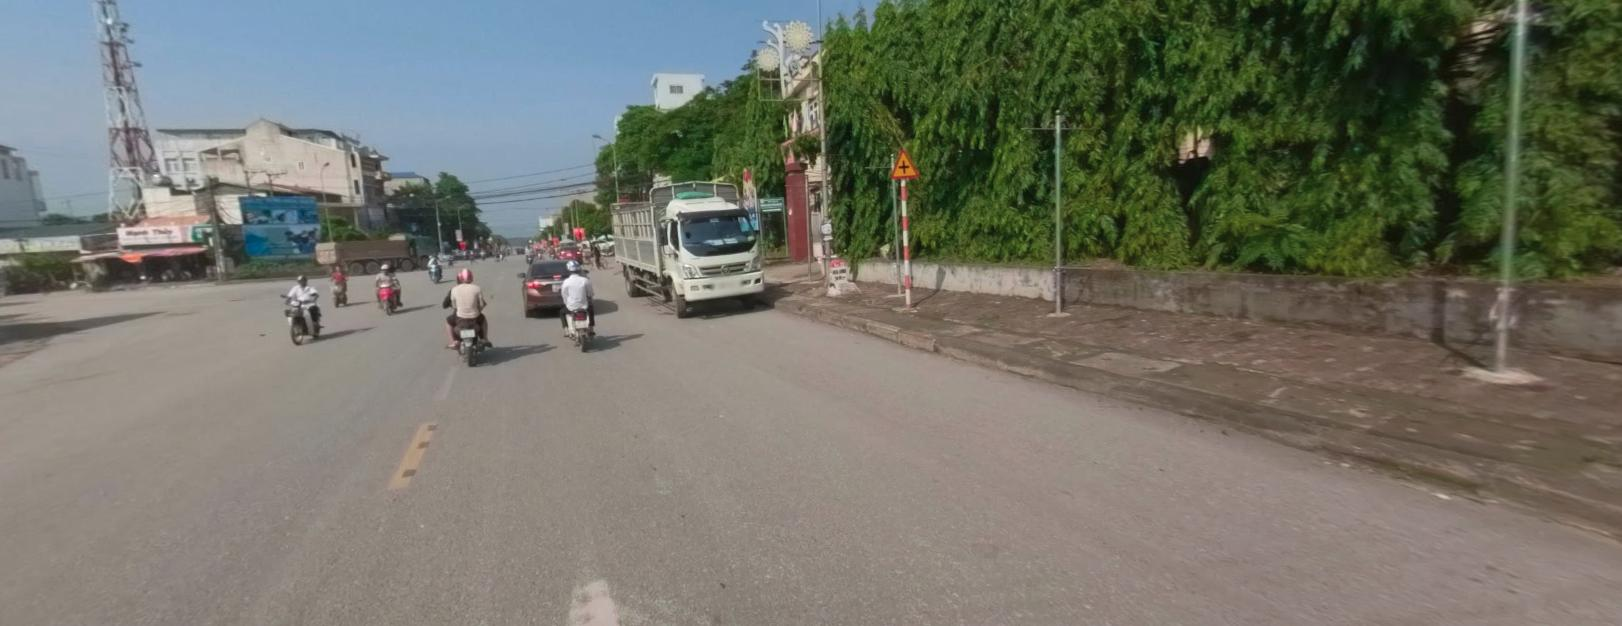Nguy hiem: (890, 147, 918, 177)
